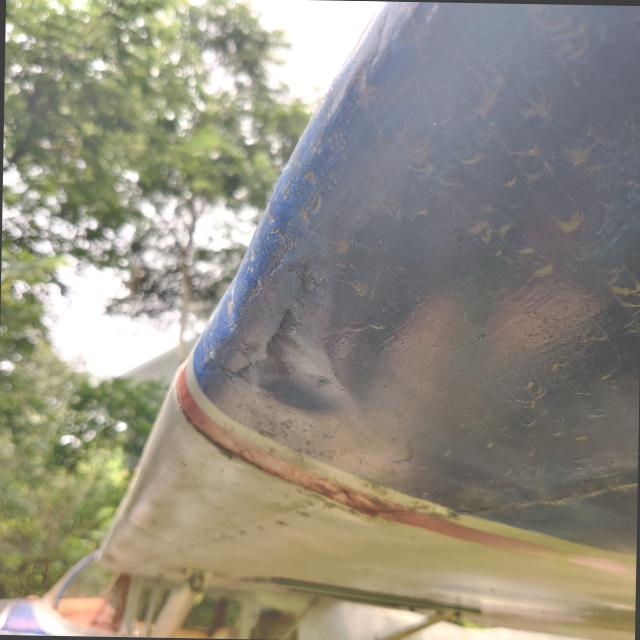dent: (222, 275, 389, 440)
